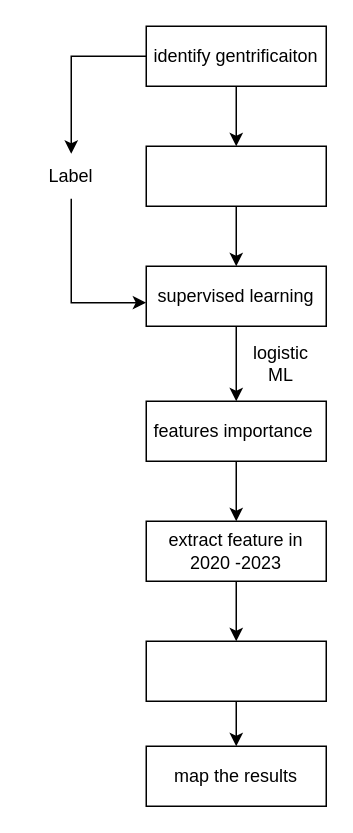
Some shapes in this 353 by 833 pixel diagram are drawn without their labels. The shapes that lost their labels are listed below. From the top down, each one's centre as x and y in pixels, then its label:
At [235,175]: "extract features 2015-2019".
At [235,670]: "unsupervised learning".
